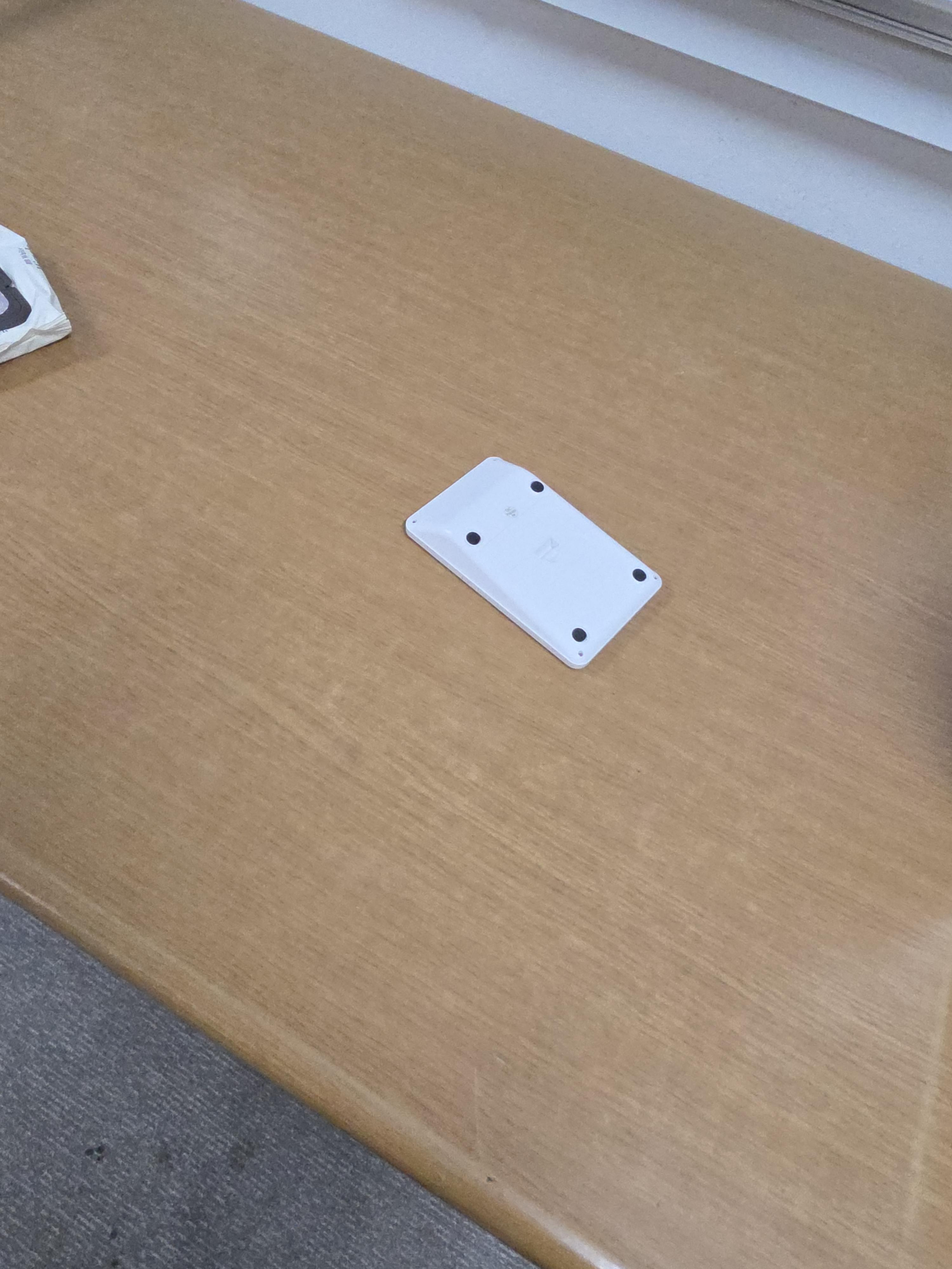calculator: (403, 456, 663, 670)
tissue: (0, 224, 72, 365)
